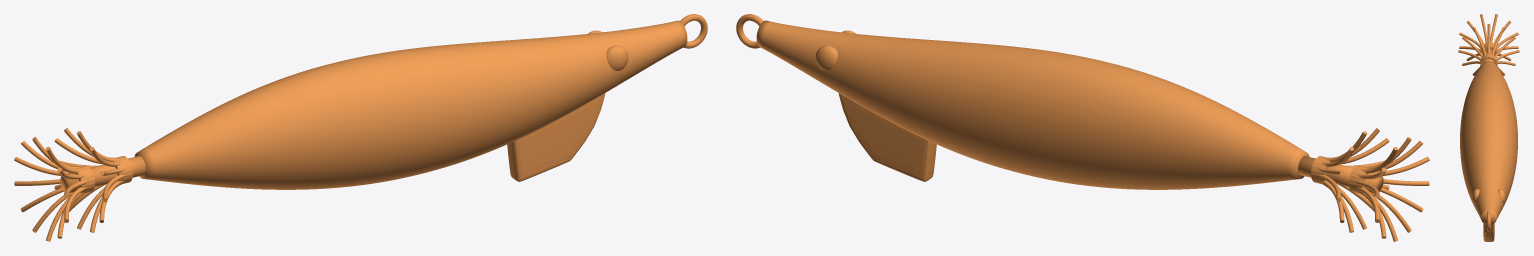
The model's file is potera.glb.
3 renders of one model, left to right at view 1: azimuth 30°, elevation 25°; view 2: azimuth 150°, elevation 25°; view 3: azimuth 270°, elevation 25°, orthographic. The views are drawn at different scales.
Parts seen in each view (by area): view 1: Potera; view 2: Potera; view 3: Potera.
Boxes of the visible parts, x1,y1,x2,y2 form: Potera: (14, 14, 707, 241); Potera: (736, 14, 1429, 241); Potera: (1458, 14, 1519, 241).
Size of the model in its own units: 124 by 27.8 by 17.34.
